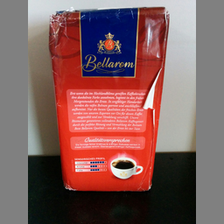chocolate: (49, 5, 170, 193)
